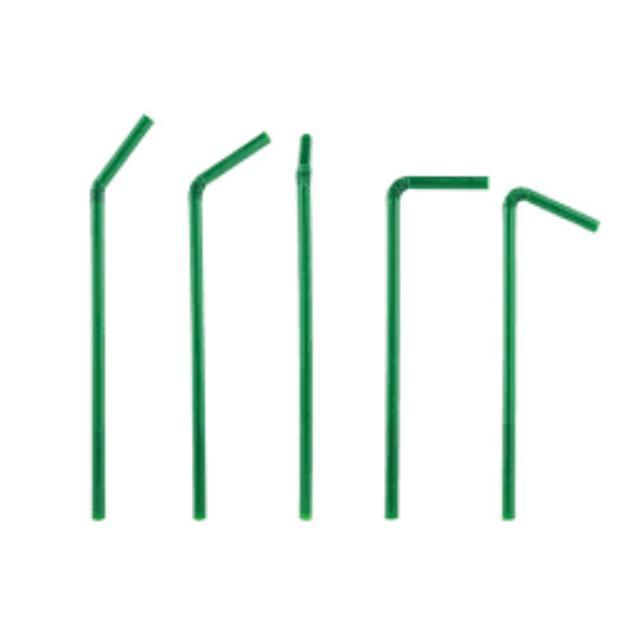Plastico descartable: (386, 176, 490, 521), (186, 133, 271, 523), (501, 188, 599, 524), (85, 117, 152, 524), (289, 133, 315, 524)
